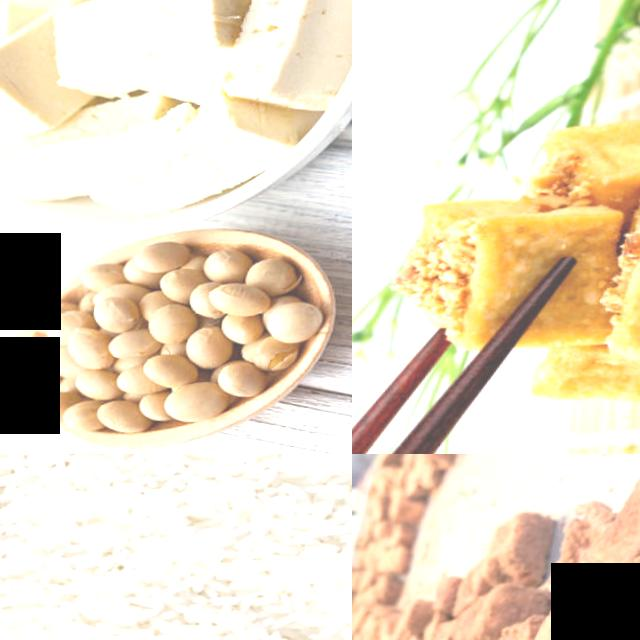tofu: (456, 189, 629, 364), (45, 0, 229, 112), (69, 108, 228, 228), (221, 0, 352, 126), (553, 101, 640, 203), (0, 47, 59, 148)
white rice: (0, 454, 352, 640)
